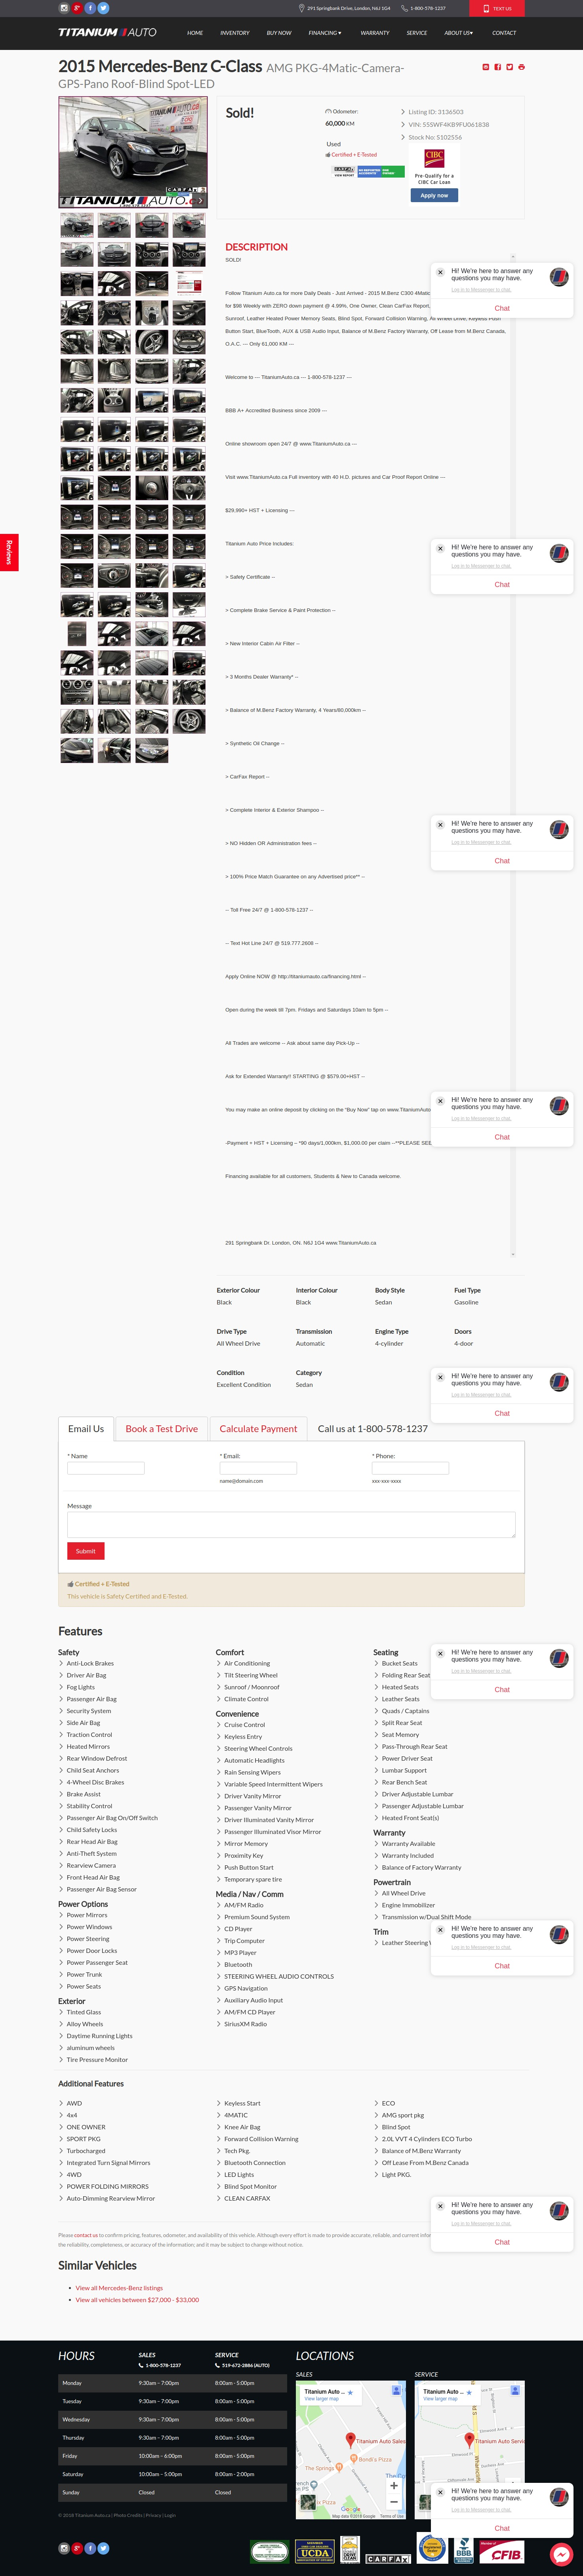car: (199, 197, 202, 204)
